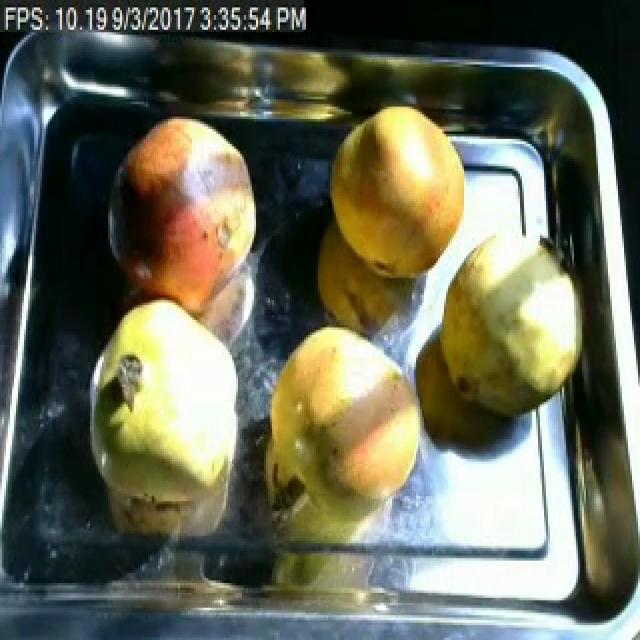fruit: (72, 283, 252, 543), (246, 305, 438, 533), (430, 213, 588, 427), (102, 109, 266, 313), (318, 99, 474, 290)
